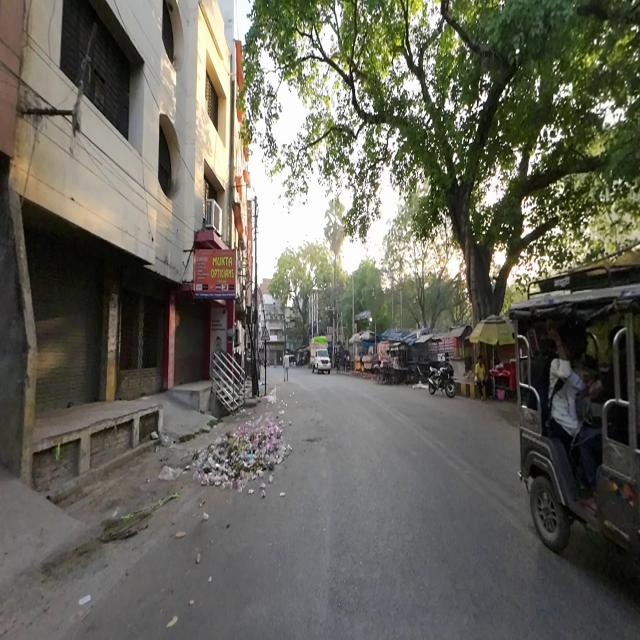Garbage: (203, 434, 263, 490), (251, 416, 286, 465), (159, 462, 181, 484)
